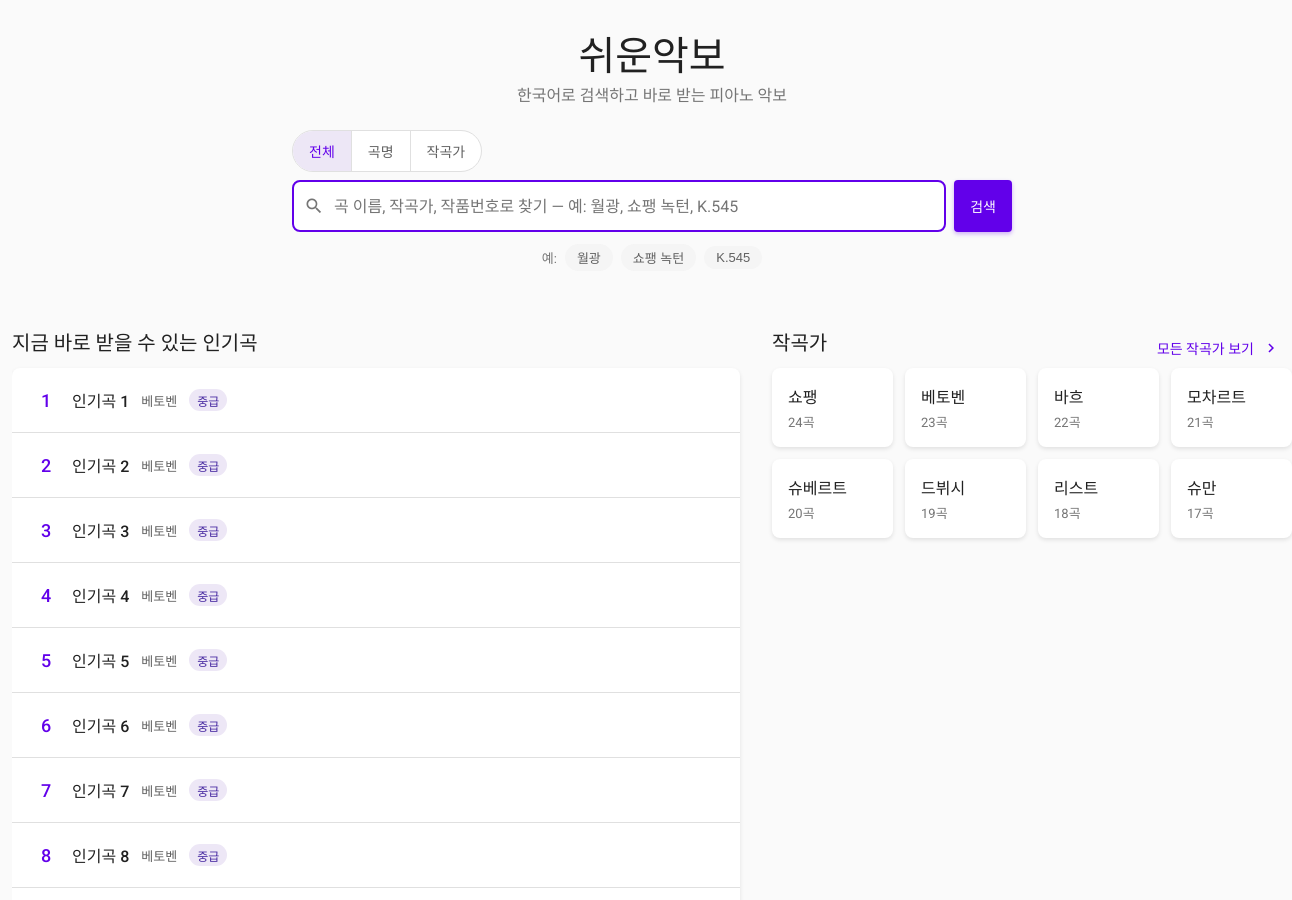
Test case: 홈 — 검색 기준 세그먼트 › 기준 '곡명' 를 고르면 자리 문구가 바뀐다 (08 §4-3)
Click the radio button labelled "곡명" at (380, 151), box [351,131,410,171]
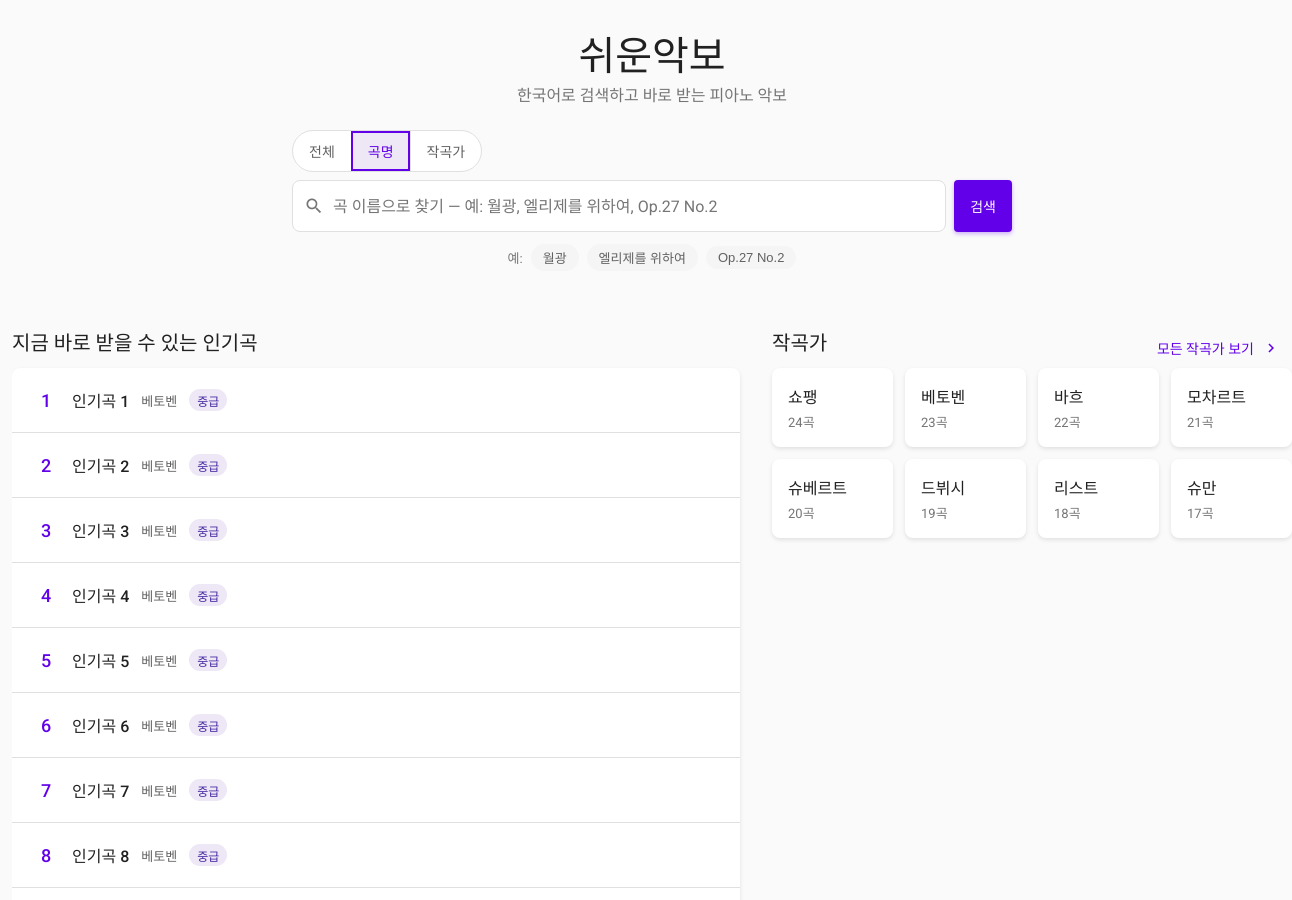
Expected: the field with placeholder "곡 이름으로 찾기 — 예: 월광, 엘리제를 위하여, Op.27 No.2" is shown, [292,180,946,232]
